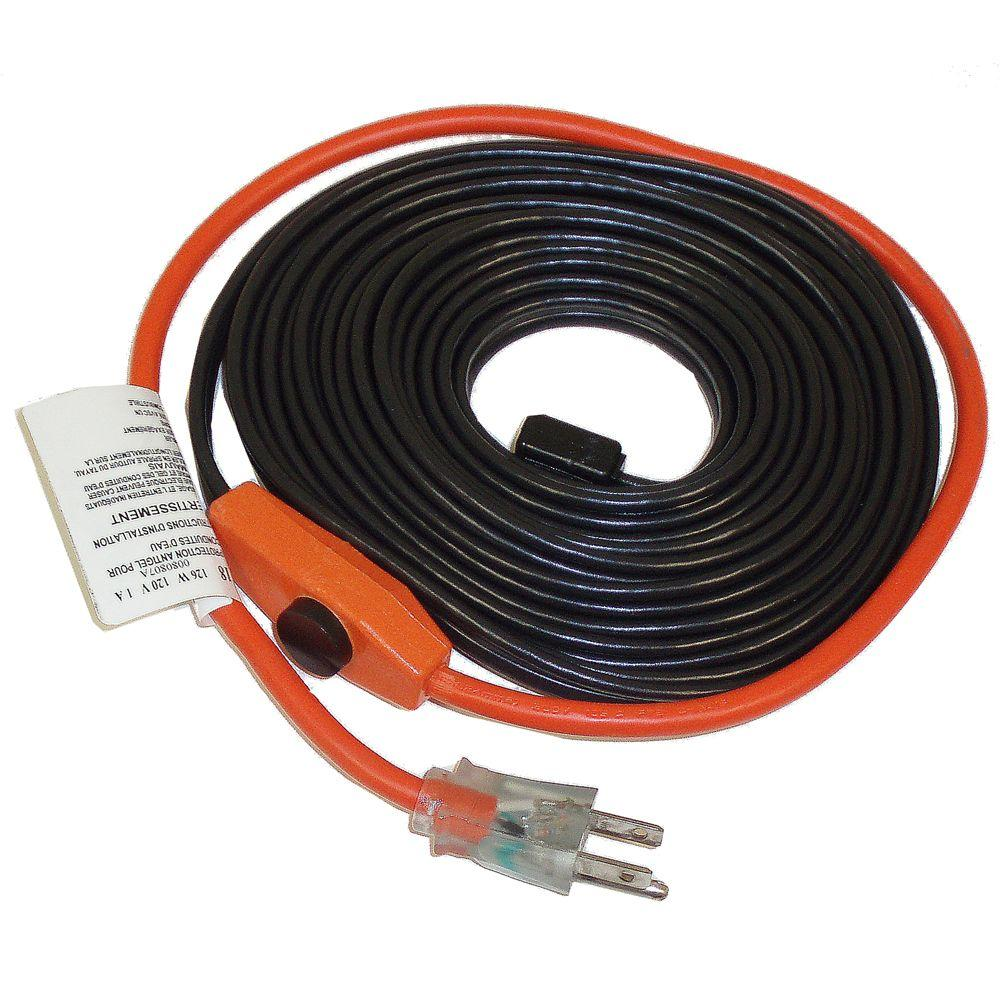Nonrec_Tangler: (72, 43, 985, 872)
